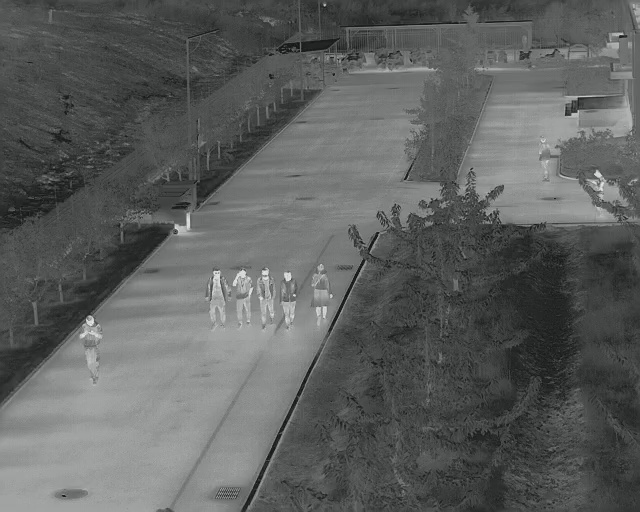person: (80, 315, 106, 385), (206, 267, 231, 327), (233, 266, 255, 329), (310, 263, 332, 325), (281, 267, 300, 327), (260, 265, 278, 327), (540, 135, 553, 180)
